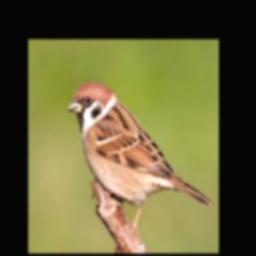Sparrow: (66, 83, 213, 228)
